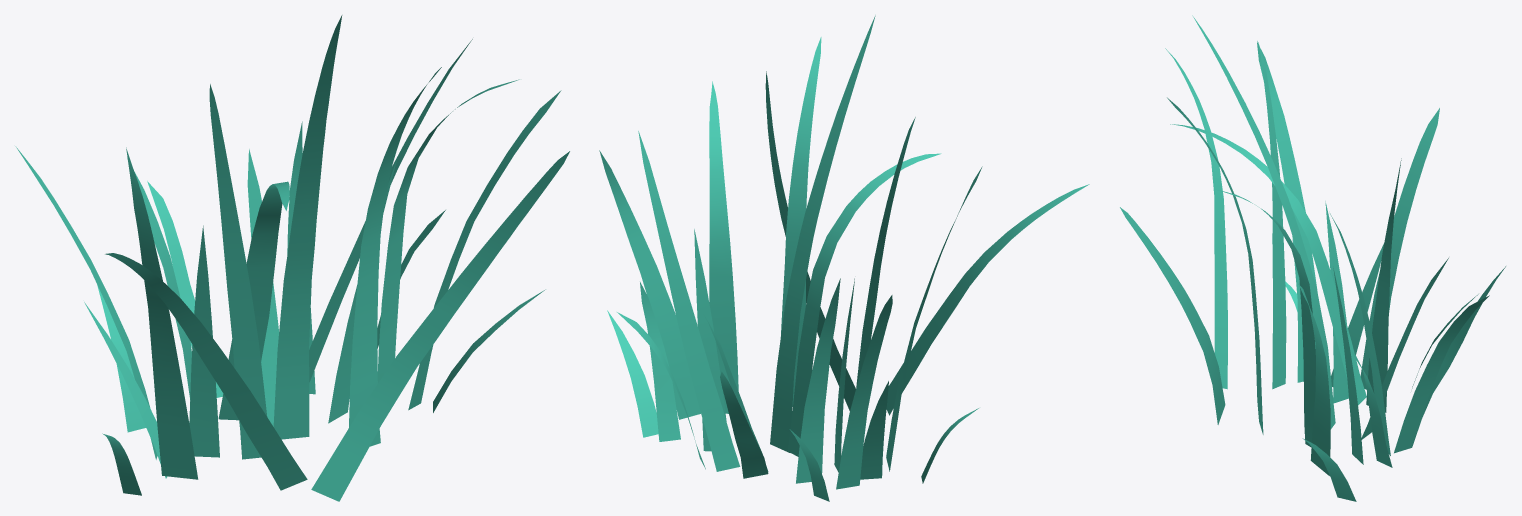
The model's file is coral_grass_B_medium.fbx.
3 views of the same model, side by side, from view 1: azimuth 30°, elevation 25°; view 2: azimuth 150°, elevation 25°; view 3: azimuth 270°, elevation 25° (orthographic). The views are drawn at different scales.
Parts seen in each view (by area): view 1: coral_grass_B_leaf_A, coral_grass_B_leaf_F, coral_grass_B_leaf_D, coral_grass_B_leaf_C, coral_grass_B_leaf_E, coral_grass_B_leaf_B, coral_grass_B_leaf_G, coral_grass_B_leaf_N, coral_grass_B_leaf_H, coral_grass_B_leaf_J, coral_grass_B_leaf_I, coral_grass_B_leaf_P (+9 smaller); view 2: coral_grass_B_leaf_A, coral_grass_B_leaf_I, coral_grass_B_leaf_H, coral_grass_B_leaf_J, coral_grass_B_leaf_G, coral_grass_B_leaf_B, coral_grass_B_leaf_L, coral_grass_B_leaf_K, coral_grass_B_leaf_E, coral_grass_B_leaf_R, coral_grass_B_leaf_F, coral_grass_B_leaf_M (+8 smaller); view 3: coral_grass_B_leaf_E, coral_grass_B_leaf_C, coral_grass_B_leaf_G, coral_grass_B_leaf_A, coral_grass_B_leaf_D, coral_grass_B_leaf_K, coral_grass_B_leaf_O, coral_grass_B_leaf_F, coral_grass_B_leaf_H, coral_grass_B_leaf_L, coral_grass_B_leaf_J, coral_grass_B_leaf_N (+8 smaller).
Boxes of the visible parts, x1,y1,x2,y2 form: coral_grass_B_leaf_A: [273, 15, 342, 439]; coral_grass_B_leaf_F: [311, 151, 569, 501]; coral_grass_B_leaf_D: [126, 147, 198, 479]; coral_grass_B_leaf_C: [209, 84, 267, 459]; coral_grass_B_leaf_E: [105, 253, 307, 490]; coral_grass_B_leaf_B: [349, 67, 441, 446]; coral_grass_B_leaf_G: [218, 181, 289, 420]; coral_grass_B_leaf_N: [189, 225, 219, 457]; coral_grass_B_leaf_H: [377, 79, 519, 382]; coral_grass_B_leaf_J: [408, 90, 561, 410]; coral_grass_B_leaf_I: [309, 39, 472, 382]; coral_grass_B_leaf_P: [247, 149, 278, 426]; coral_grass_B_leaf_A: [770, 15, 875, 452]; coral_grass_B_leaf_I: [638, 131, 740, 471]; coral_grass_B_leaf_H: [709, 81, 738, 413]; coral_grass_B_leaf_J: [599, 150, 700, 419]; coral_grass_B_leaf_G: [787, 153, 941, 456]; coral_grass_B_leaf_B: [780, 37, 821, 406]; coral_grass_B_leaf_L: [796, 278, 840, 483]; coral_grass_B_leaf_K: [836, 295, 892, 489]; coral_grass_B_leaf_E: [886, 184, 1089, 415]; coral_grass_B_leaf_R: [640, 282, 680, 441]; coral_grass_B_leaf_F: [765, 71, 855, 410]; coral_grass_B_leaf_M: [694, 229, 726, 451]; coral_grass_B_leaf_E: [1165, 48, 1227, 389]; coral_grass_B_leaf_C: [1257, 41, 1286, 389]; coral_grass_B_leaf_G: [1170, 124, 1366, 405]; coral_grass_B_leaf_A: [1192, 15, 1335, 429]; coral_grass_B_leaf_D: [1257, 42, 1317, 382]; coral_grass_B_leaf_K: [1360, 108, 1439, 389]; coral_grass_B_leaf_O: [1394, 295, 1489, 453]; coral_grass_B_leaf_F: [1120, 207, 1225, 424]; coral_grass_B_leaf_H: [1216, 189, 1315, 447]; coral_grass_B_leaf_L: [1366, 158, 1401, 412]; coral_grass_B_leaf_J: [1298, 283, 1330, 475]; coral_grass_B_leaf_N: [1325, 201, 1348, 403].
Bounding box in the file's own units: 103 × 92.83 × 79.25.
